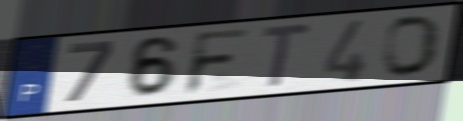4: (321, 16, 370, 84)
6: (122, 33, 186, 100)
7: (62, 37, 121, 106)
F: (181, 26, 255, 97)
O: (381, 13, 444, 79)
T: (259, 21, 315, 92)
